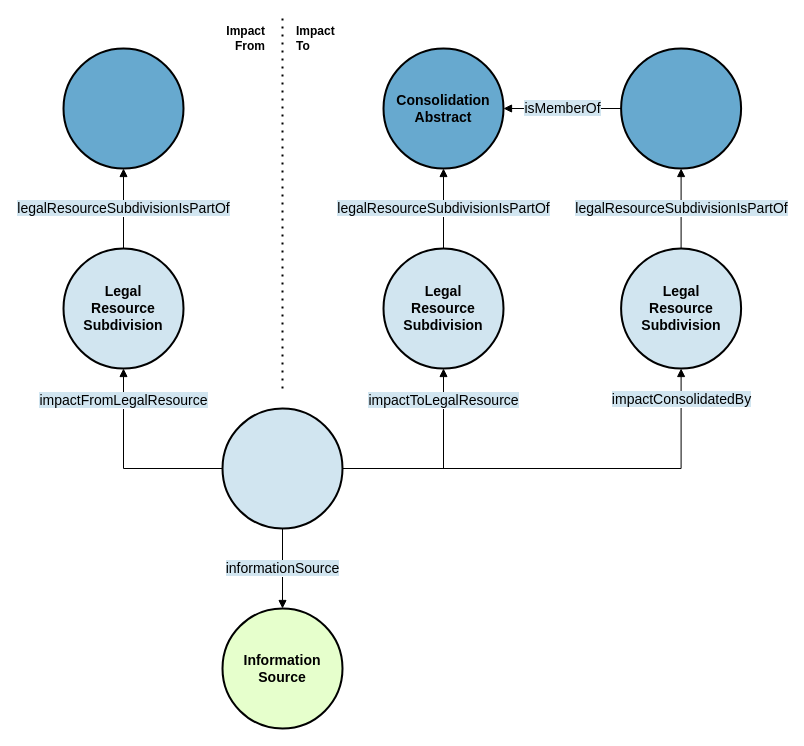
This 804x746 diagram has some shape labels left out. Each missing label, with the centre of its shape:
"Act" belongs at point 123,108.
"Consolidation" belongs at point 681,108.
"Legal Resource Impact" belongs at point 282,468.
